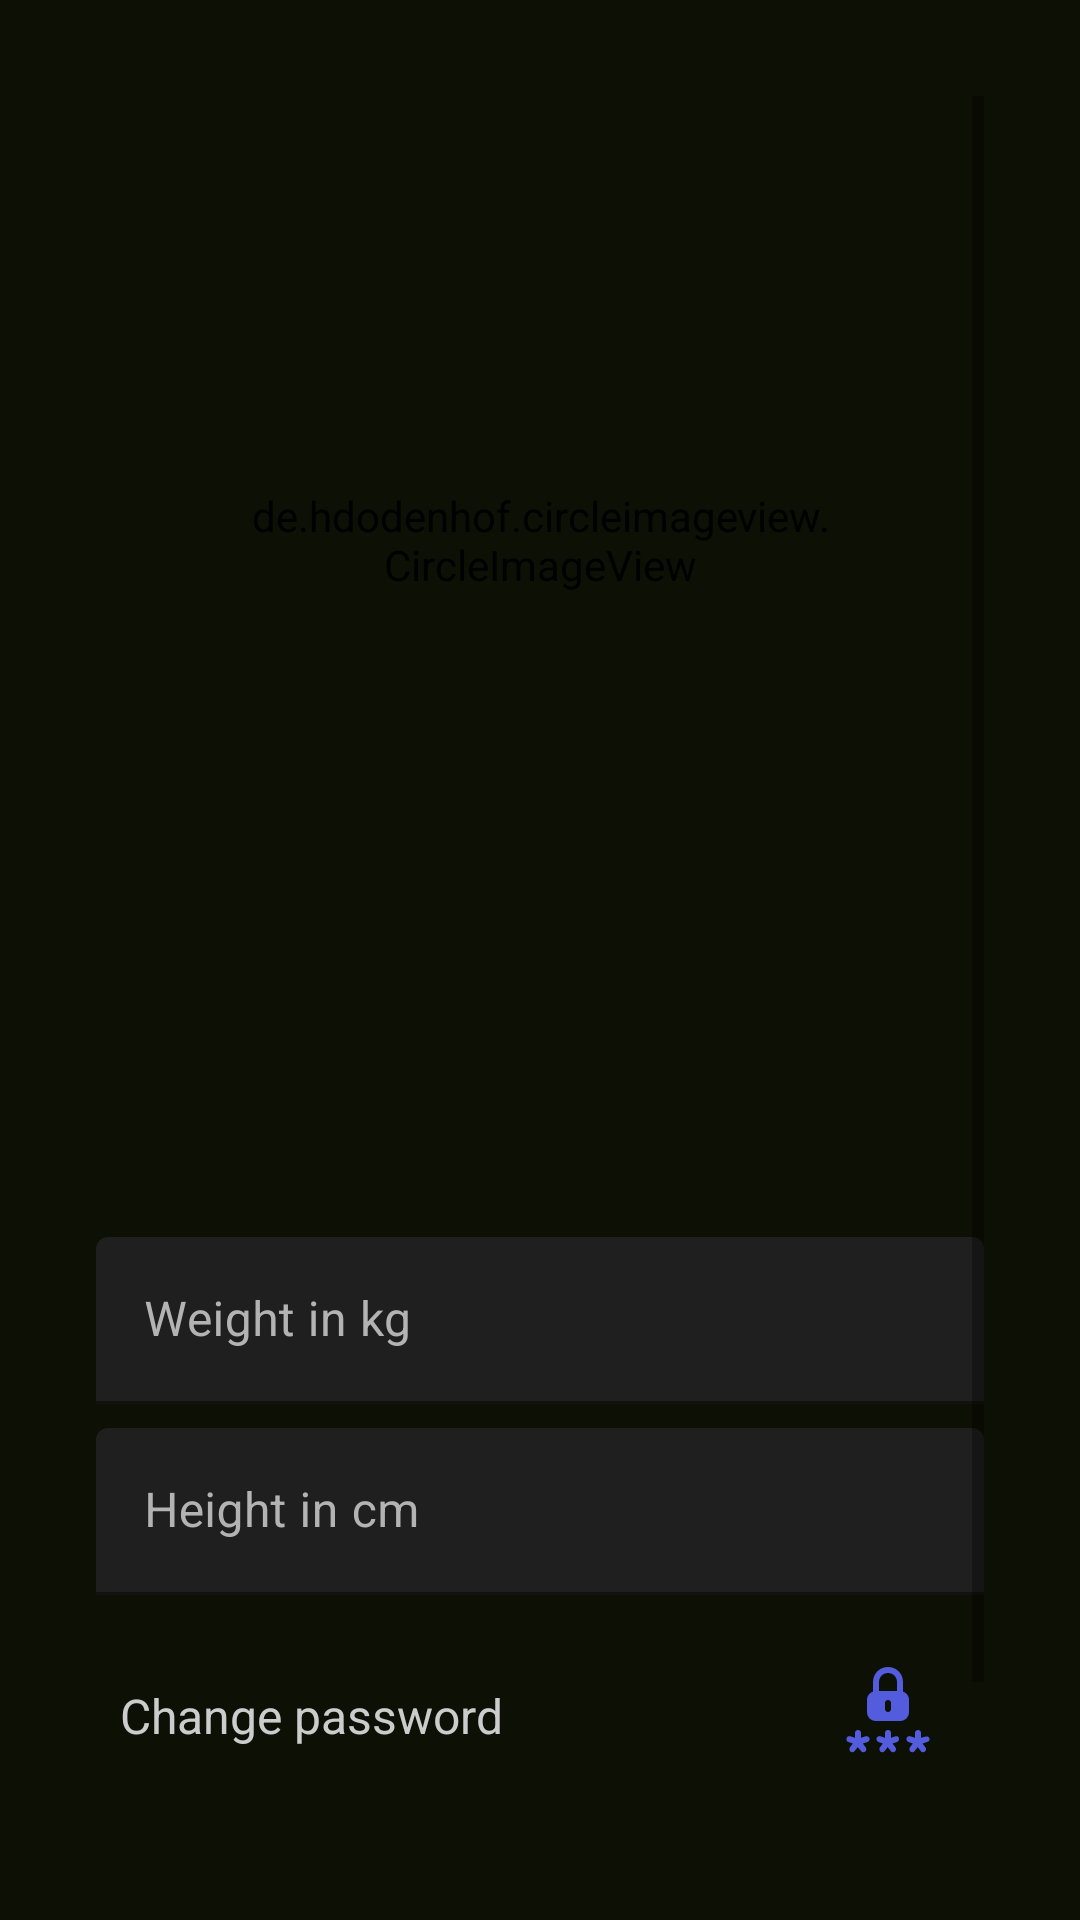

Point at icon controls on the screen. Image size 1080 x 1920, points as [x,y].
change password: [888,1710]
